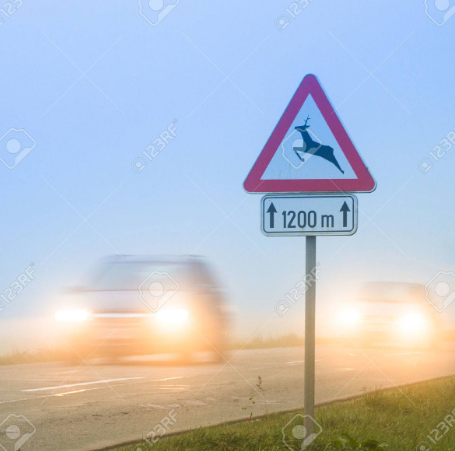Animal Crossing: (242, 68, 374, 196)
